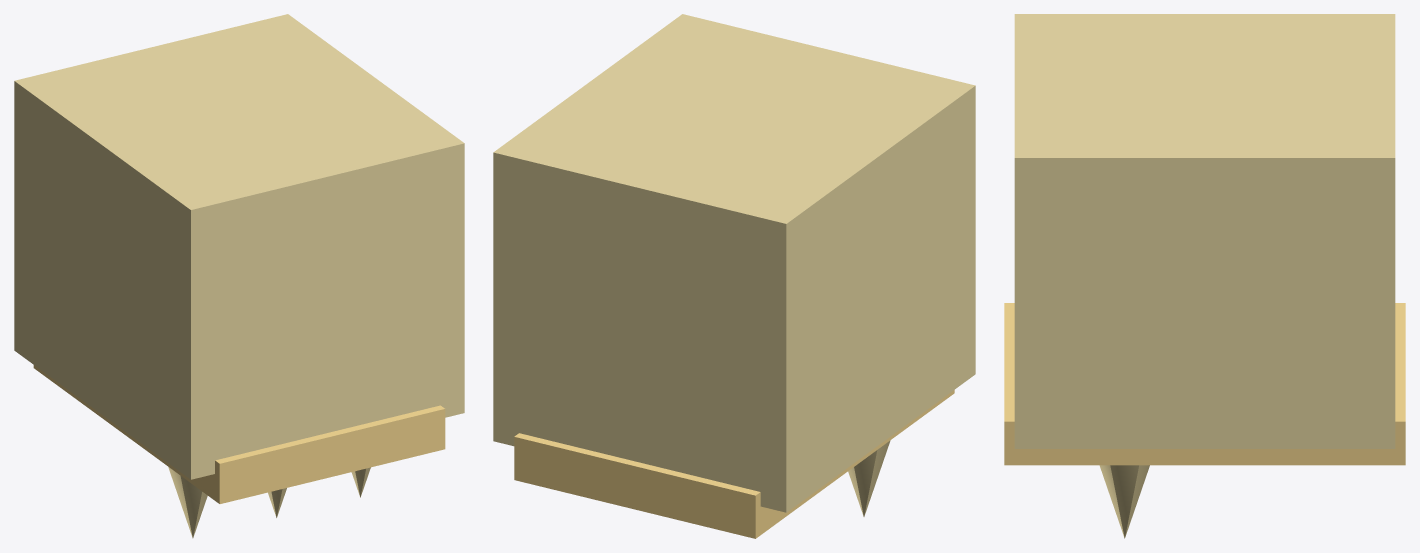
Rendered from rook_left.glb.
The picture shows the model from 3 angles, left to right: view 1: azimuth 30°, elevation 25°; view 2: azimuth 150°, elevation 25°; view 3: azimuth 270°, elevation 25°; orthographic projection. The views are drawn at different scales.
Parts seen in each view (by area): view 1: rook_left; view 2: rook_left; view 3: rook_left.
Part boxes in pixels (bbox=[...]): rook_left: bbox=[14, 14, 464, 538]; rook_left: bbox=[493, 14, 975, 538]; rook_left: bbox=[1004, 14, 1405, 538].
Size of the model in its own units: 0.085 by 0.1125 by 0.1.
